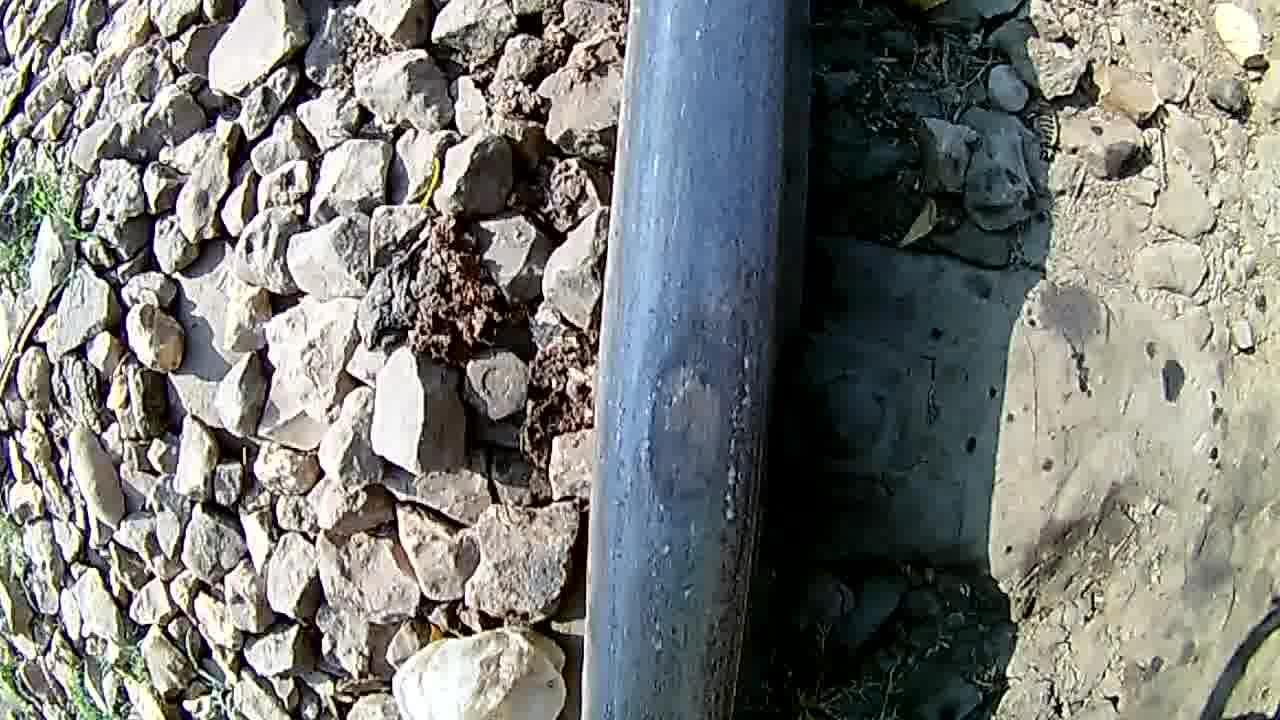bolt_missing: (590, 287, 772, 584)
